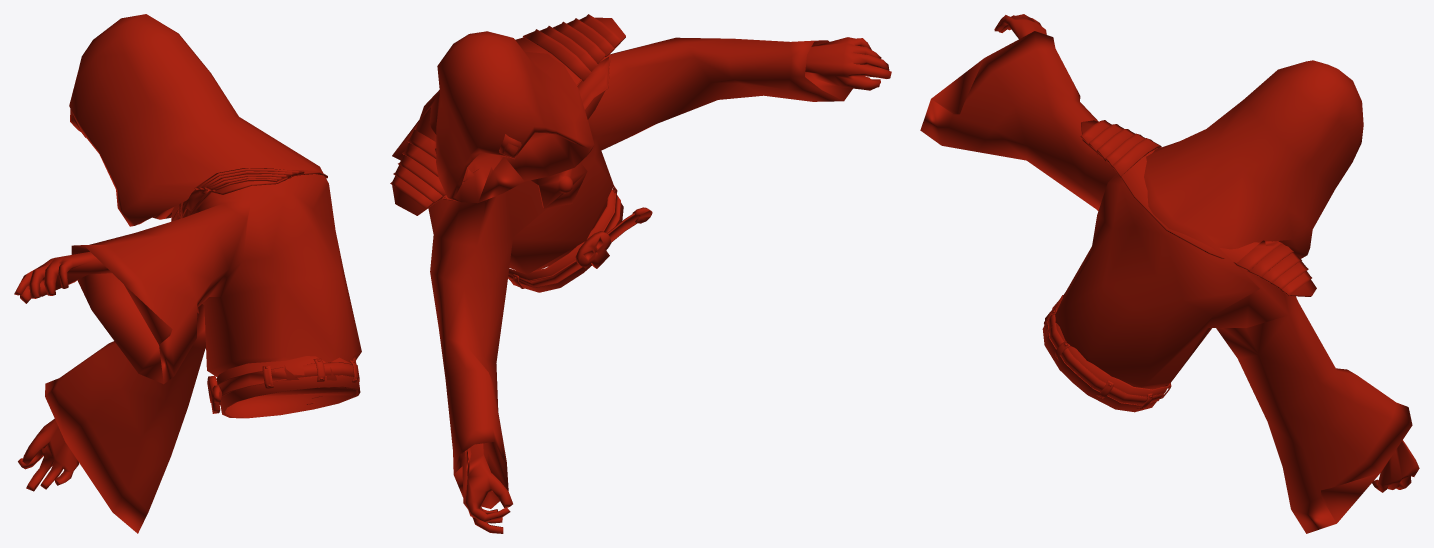
Rendered from top_000066.obj.
3 renders of one model, left to right at view 1: azimuth 30°, elevation 25°; view 2: azimuth 150°, elevation 25°; view 3: azimuth 270°, elevation 25°, orthographic. The views are drawn at different scales.
Parts seen in each view (by area): view 1: LowPoly_Warlock.000_Plane.005; view 2: LowPoly_Warlock.000_Plane.005; view 3: LowPoly_Warlock.000_Plane.005.
Part boxes in pixels (bbox=[...]): LowPoly_Warlock.000_Plane.005: bbox=[14, 14, 361, 533]; LowPoly_Warlock.000_Plane.005: bbox=[390, 14, 891, 533]; LowPoly_Warlock.000_Plane.005: bbox=[920, 14, 1419, 533].
Size of the model in its own units: 1.2 by 1.44 by 1.37.
